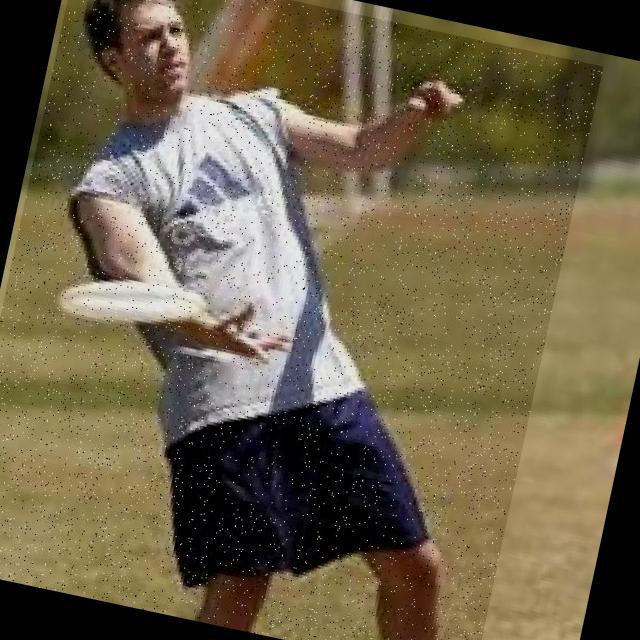Person: (34, 0, 493, 640)
bare-arms: (179, 294, 290, 373), (369, 64, 469, 141)
no-helmet: (75, 0, 191, 40)
no-vest: (67, 88, 390, 451)
